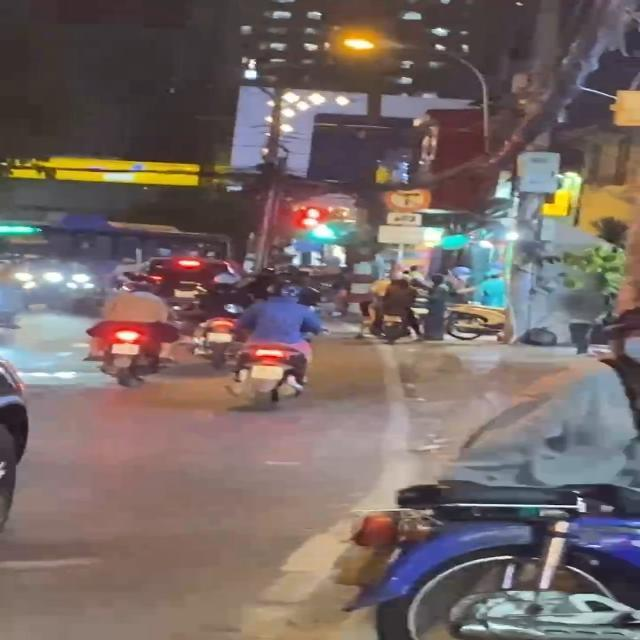137-cam-re-trai-va-re-phai: (382, 181, 432, 212)
